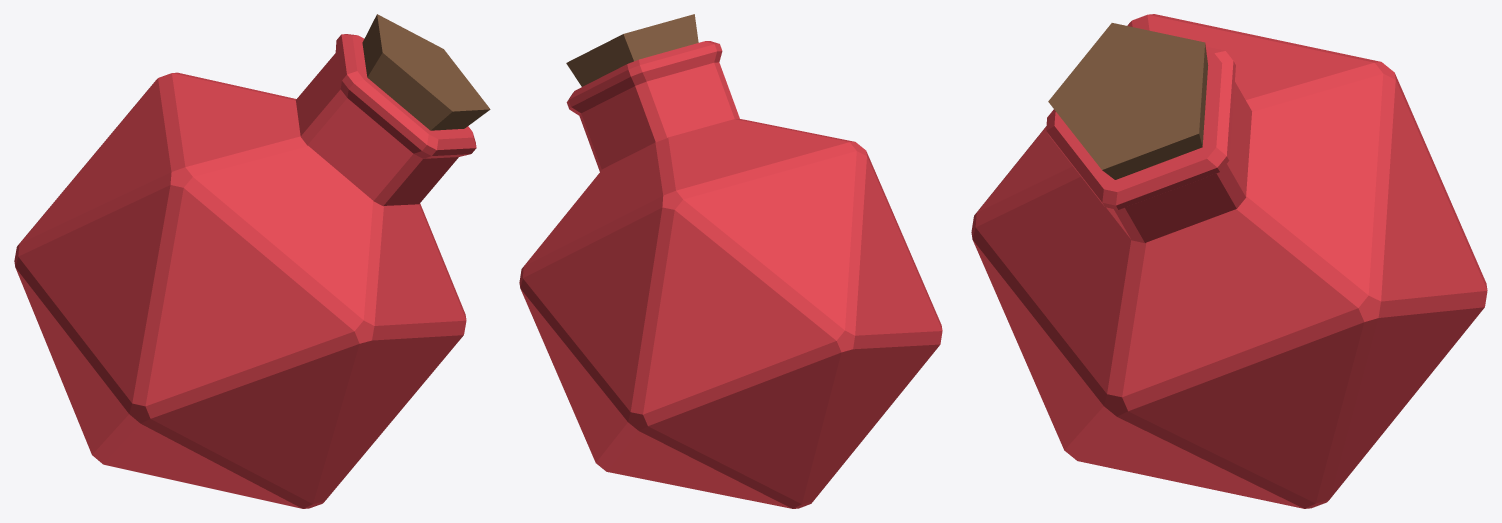
The model's file is Potion_03_Red.fbx.
3 renders of one model, left to right at view 1: azimuth 30°, elevation 25°; view 2: azimuth 150°, elevation 25°; view 3: azimuth 270°, elevation 25°, orthographic. The views are drawn at different scales.
Visible parts, largest first — view 1: Icosphere.001, Cylinder.008, Cylinder.009; view 2: Icosphere.001, Cylinder.008, Cylinder.009; view 3: Icosphere.001, Cylinder.009, Cylinder.008.
Part boxes in pixels (box(x1,y1,x2,y2)): Icosphere.001: box(14, 72, 466, 508); Cylinder.008: box(295, 34, 476, 206); Cylinder.009: box(362, 14, 490, 130); Icosphere.001: box(519, 119, 942, 508); Cylinder.008: box(566, 41, 739, 171); Cylinder.009: box(566, 14, 698, 86); Icosphere.001: box(971, 14, 1487, 508); Cylinder.009: box(1048, 23, 1208, 179); Cylinder.008: box(1046, 46, 1251, 242).
Bounding box in the file's own units: 22.22 × 24.31 × 23.44.
